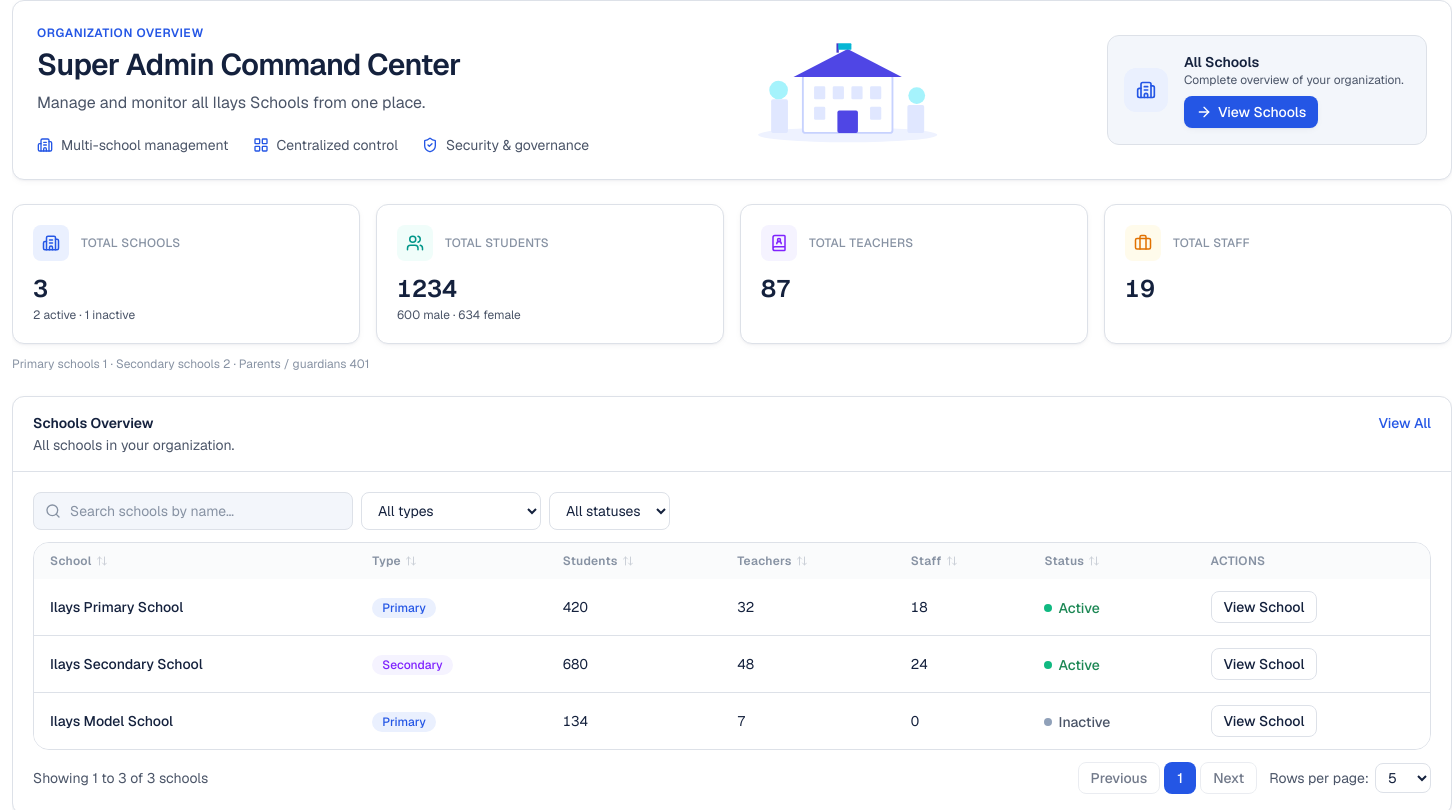
Scenario: OrganizationControlCenter — Schools Overview (real schools) › filters by type
The image size is (1452, 810).
Expected: the heading "Schools Overview" is shown, 33,414 -> 154,432
Select "Secondary" in the dropdown named "Filter by school type" at (451, 511), box 361,492 -> 541,530
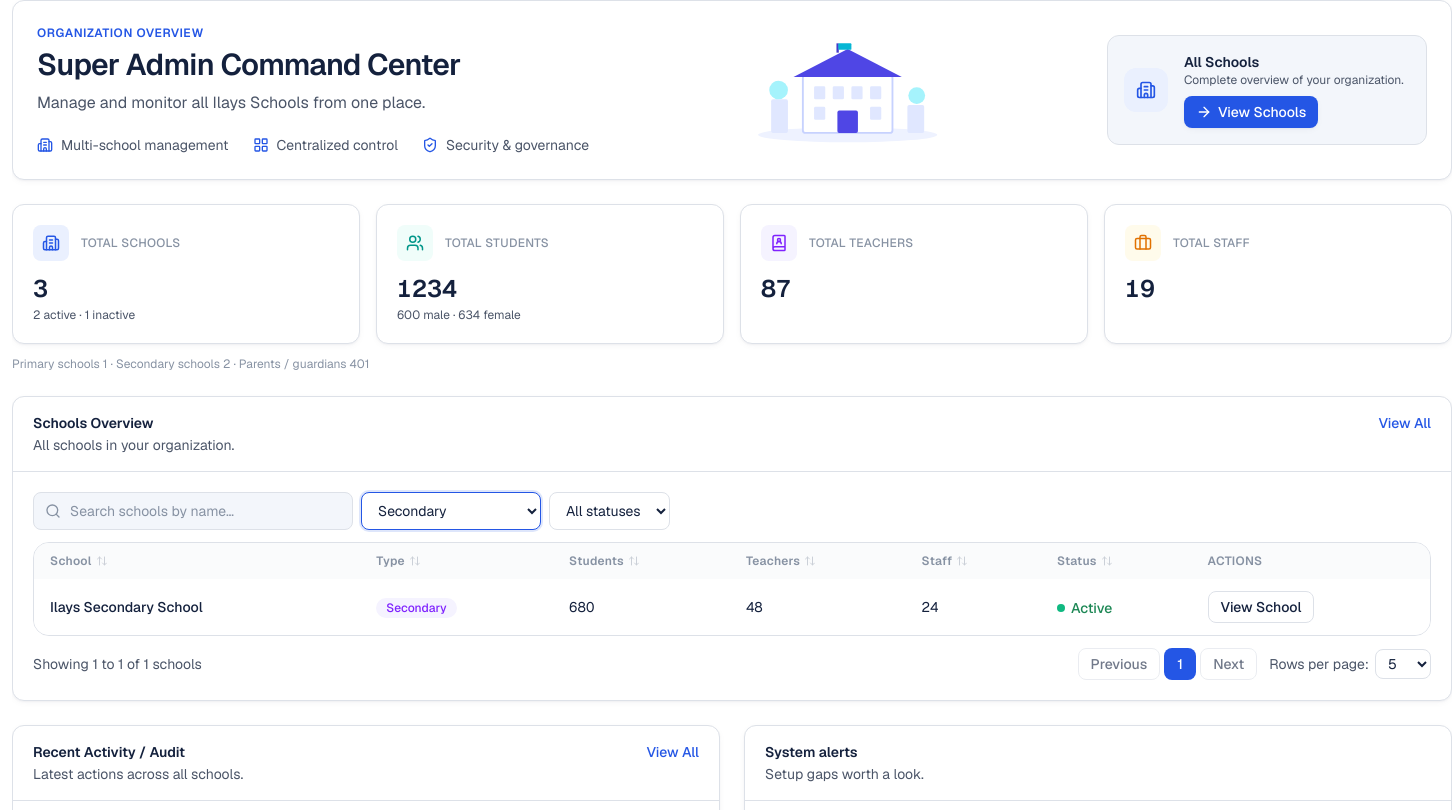
Expected: the text "Ilays Secondary School" is shown, 50,598 -> 203,616
Result: the text "Ilays Primary School" is gone
